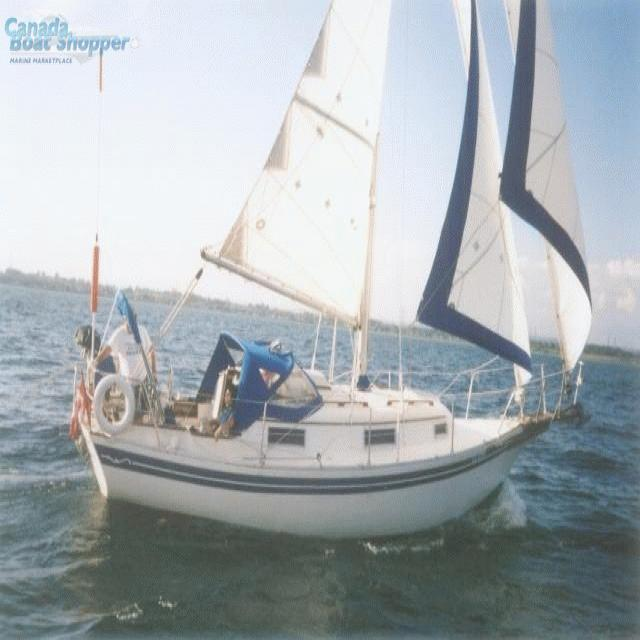Ship: (61, 4, 595, 528)
